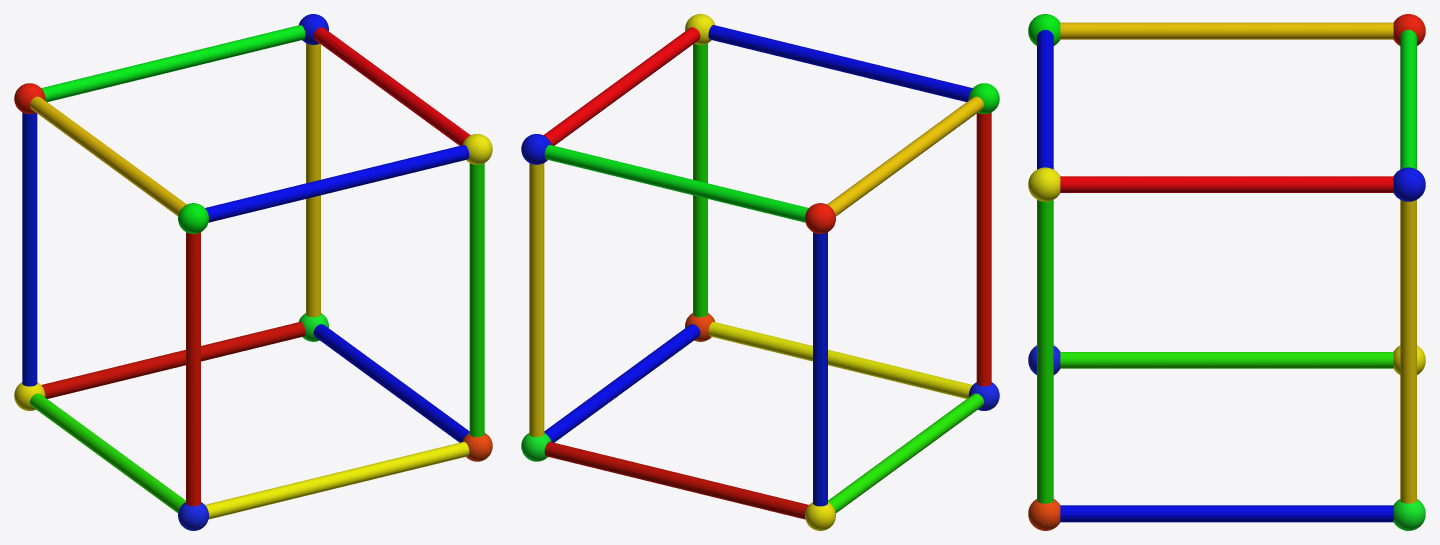
The model's file is six_mirrors_room_only_edges.fbx.
3 views of the same model, side by side, from view 1: azimuth 30°, elevation 25°; view 2: azimuth 150°, elevation 25°; view 3: azimuth 270°, elevation 25° (orthographic). The views are drawn at different scales.
Parts seen in each view (by area): view 1: Surface, Surface.002, Surface.011, Surface.008, Surface.006, Surface.003, Surface.009, Surface.001, Surface.012, Surface.005, Surface.007, Surface.010 (+5 smaller); view 2: Surface.001, Surface.003, Surface.009, Surface.006, Surface.008, Surface.002, Surface.011, Surface, Surface.012, Surface.005, Surface.007, Surface.010 (+5 smaller); view 3: Surface.005, Surface.012, Surface.007, Surface.010, Surface, Surface.001, Surface.006, Surface.008, SurfSphere.001, SurfSphere.002, SurfSphere.003, SurfSphere.004 (+2 smaller).
Boxes of the visible parts, <box> form: Surface: <box>469,163,484,437</box>; Surface.002: <box>22,112,37,386</box>; Surface.011: <box>205,441,469,519</box>; Surface.008: <box>205,145,469,222</box>; Surface.006: <box>41,25,305,101</box>; Surface.003: <box>186,232,200,506</box>; Surface.009: <box>41,322,305,398</box>; Surface.001: <box>306,43,320,317</box>; Surface.012: <box>313,324,469,442</box>; Surface.005: <box>30,96,186,216</box>; Surface.007: <box>313,27,470,145</box>; Surface.010: <box>30,393,185,513</box>; Surface.001: <box>529,163,544,437</box>; Surface.003: <box>976,112,991,386</box>; Surface.009: <box>544,441,808,519</box>; Surface.006: <box>544,145,808,222</box>; Surface.008: <box>708,25,972,101</box>; Surface.002: <box>813,232,827,506</box>; Surface.011: <box>708,322,972,398</box>; Surface: <box>693,43,707,317</box>; Surface.012: <box>544,324,700,442</box>; Surface.005: <box>827,96,983,216</box>; Surface.007: <box>543,27,700,145</box>; Surface.010: <box>828,393,983,513</box>; Surface.005: <box>1060,22,1393,39</box>; Surface.012: <box>1060,505,1393,522</box>; Surface.007: <box>1060,176,1393,192</box>; Surface.010: <box>1060,352,1393,368</box>; Surface: <box>1037,200,1053,503</box>; Surface.001: <box>1400,200,1416,503</box>; Surface.006: <box>1400,30,1416,169</box>; Surface.008: <box>1037,30,1053,169</box>; SurfSphere.001: <box>1028,167,1060,201</box>; SurfSphere.002: <box>1393,167,1425,201</box>; SurfSphere.003: <box>1028,499,1060,530</box>; SurfSphere.004: <box>1393,499,1425,530</box>.
Bounding box in the file's own units: 21.89 × 21.9 × 21.89.
